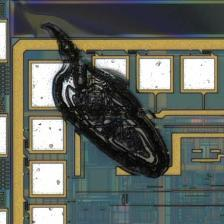PARTICLE: (17, 4, 175, 183)
